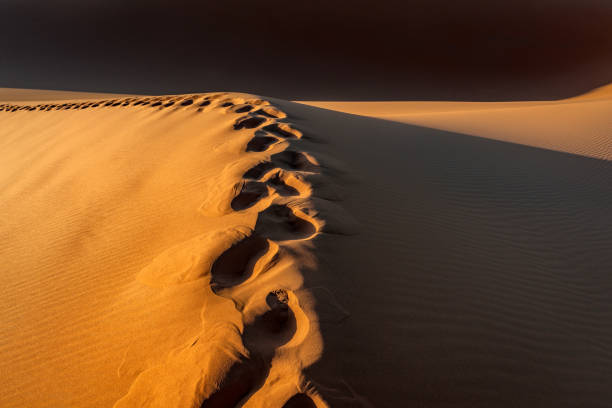human_footprint: (2, 93, 325, 407), (117, 233, 314, 406), (201, 289, 309, 407), (231, 148, 319, 244), (136, 226, 253, 287), (0, 93, 284, 118), (210, 233, 277, 290), (243, 289, 296, 358), (200, 356, 266, 407), (230, 169, 310, 210), (255, 202, 318, 240), (243, 149, 319, 179), (233, 106, 301, 138), (233, 111, 301, 138), (265, 170, 310, 196), (230, 181, 268, 210), (233, 101, 285, 118), (245, 131, 280, 151), (262, 122, 301, 138), (282, 393, 316, 407), (233, 116, 267, 129), (253, 105, 286, 118), (234, 104, 254, 112)
